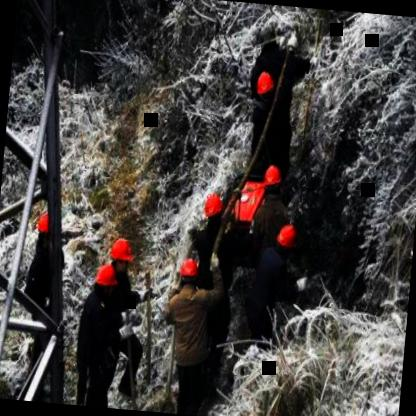helmet: (33, 202, 67, 252), (271, 222, 302, 266), (252, 66, 282, 110), (88, 264, 119, 305), (174, 254, 204, 296), (258, 162, 287, 200), (107, 237, 136, 274), (202, 190, 229, 228)
